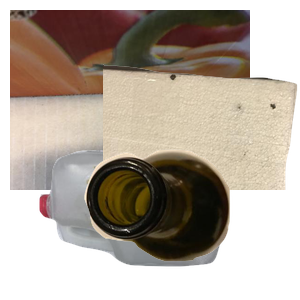cardboard: (10, 10, 250, 190)
glass: (82, 147, 300, 300)
plastic: (37, 147, 254, 300)
trash: (103, 62, 300, 242)
